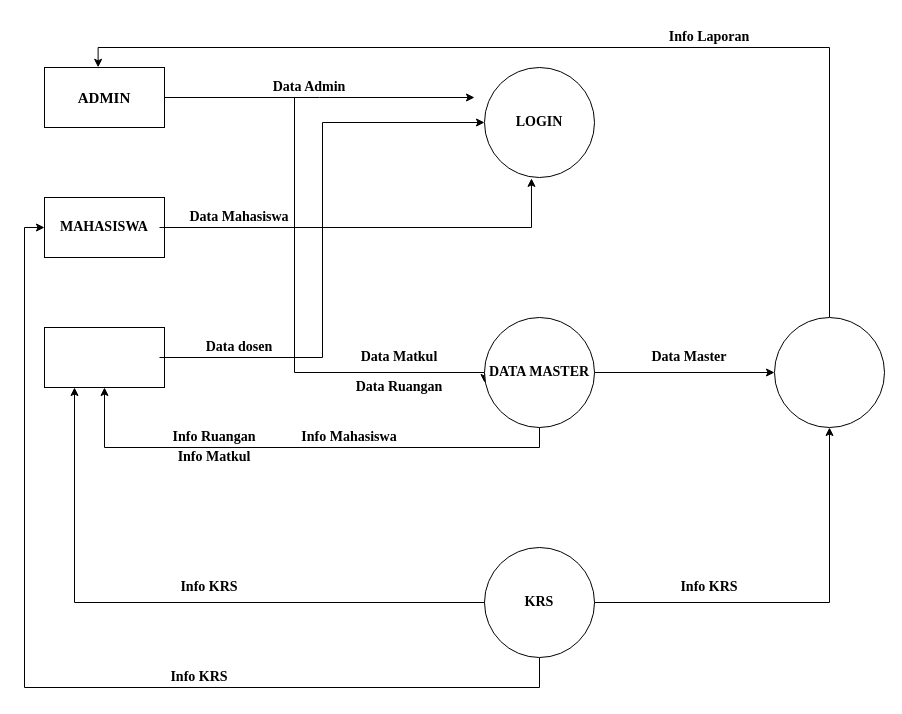
This 902x714 diagram has some shape labels left out. Here are the shapes that lost their labels. From the top down, the box of each, then its label:
(44, 326, 164, 388): DOSEN
(774, 316, 884, 428): LAPORAN
